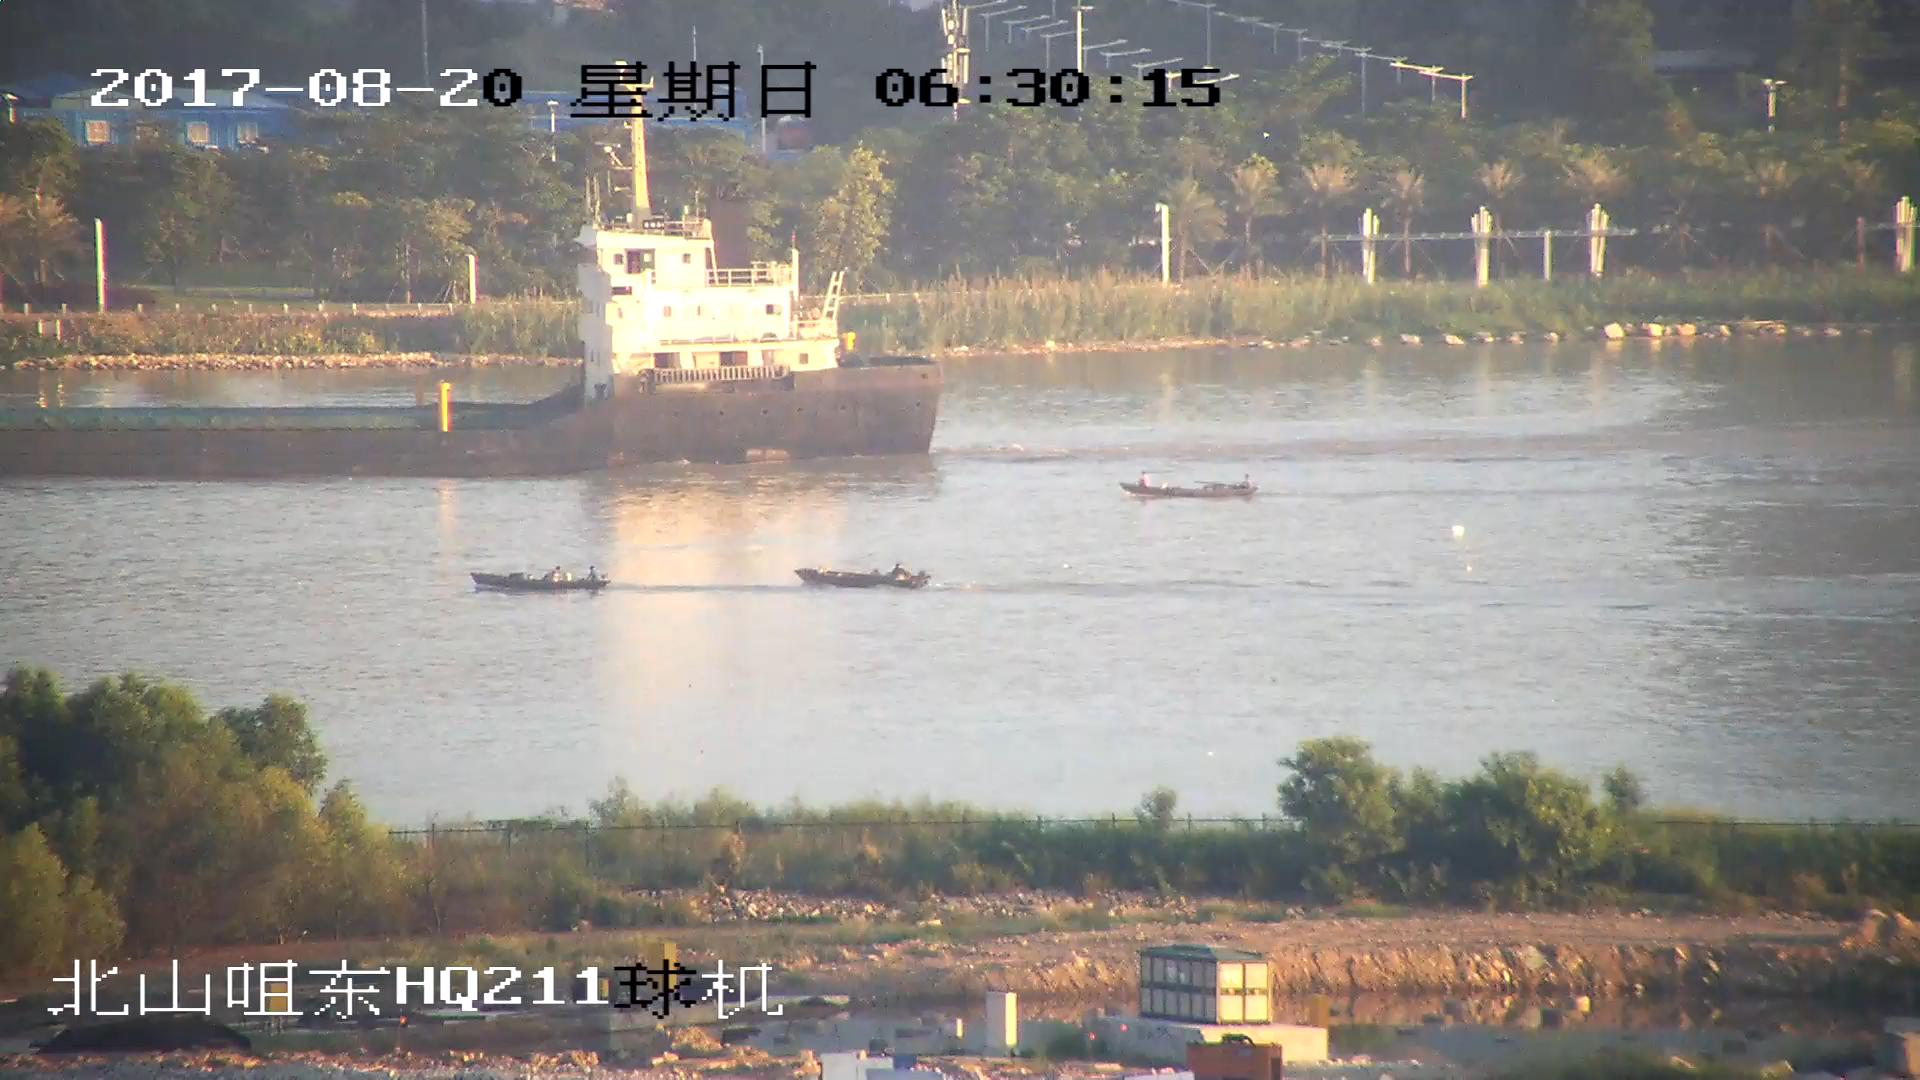fishing boat: (473, 560, 609, 596), (1123, 472, 1259, 504), (795, 562, 923, 592)
general cargo ship: (1, 124, 945, 474)
